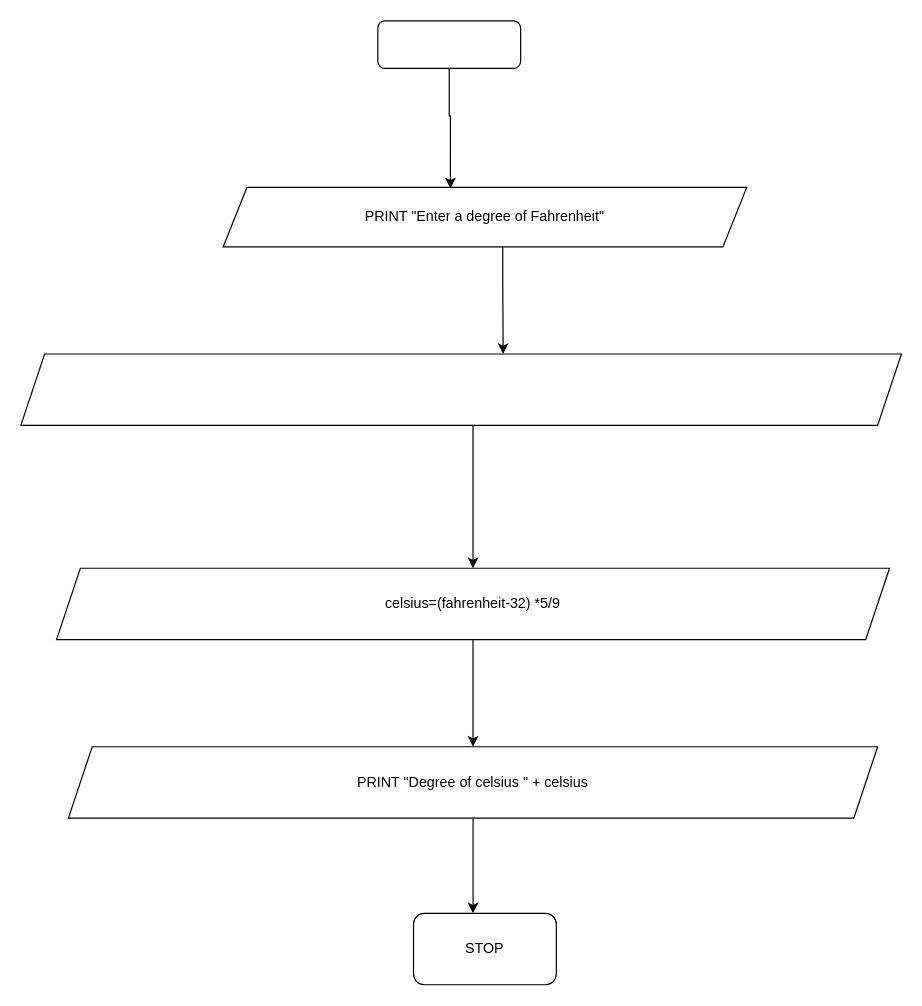
Some shapes in this 922 by 1006 pixel diagram are drawn without their labels. The shapes that lost their labels are listed below. From the top down, each one's centre as x and y in pixels, then its label:
At (x=449, y=44): "START".
At (x=460, y=389): "READ fahrenheit".
